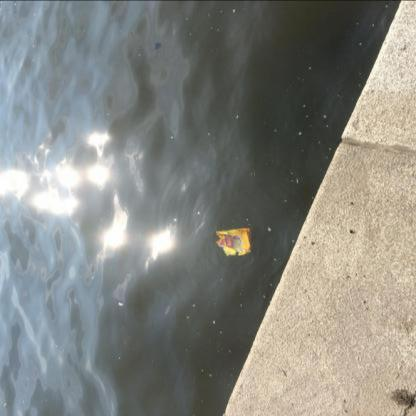Other plastic: (296, 178, 298, 183)
Plastic bag - wrapper: (216, 229, 252, 256)
Unlabeled litter: (254, 173, 255, 177), (251, 173, 252, 174)
